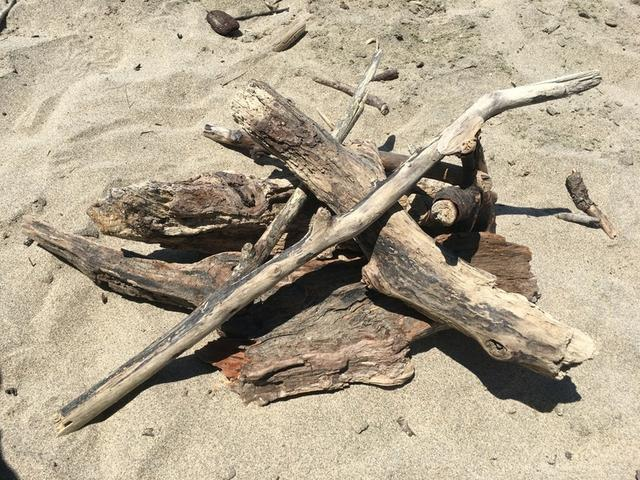wood_together: (16, 46, 616, 450)
